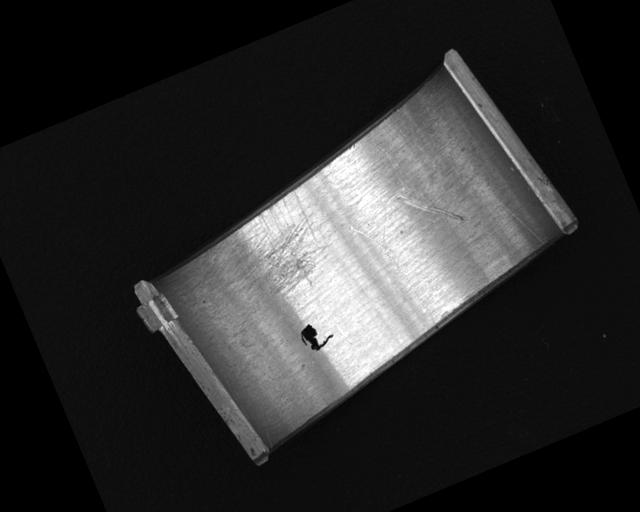blot: (296, 316, 337, 356)
nick: (346, 207, 438, 343), (467, 159, 547, 264), (397, 175, 465, 241), (373, 140, 412, 208)
scratch: (183, 187, 342, 324)
